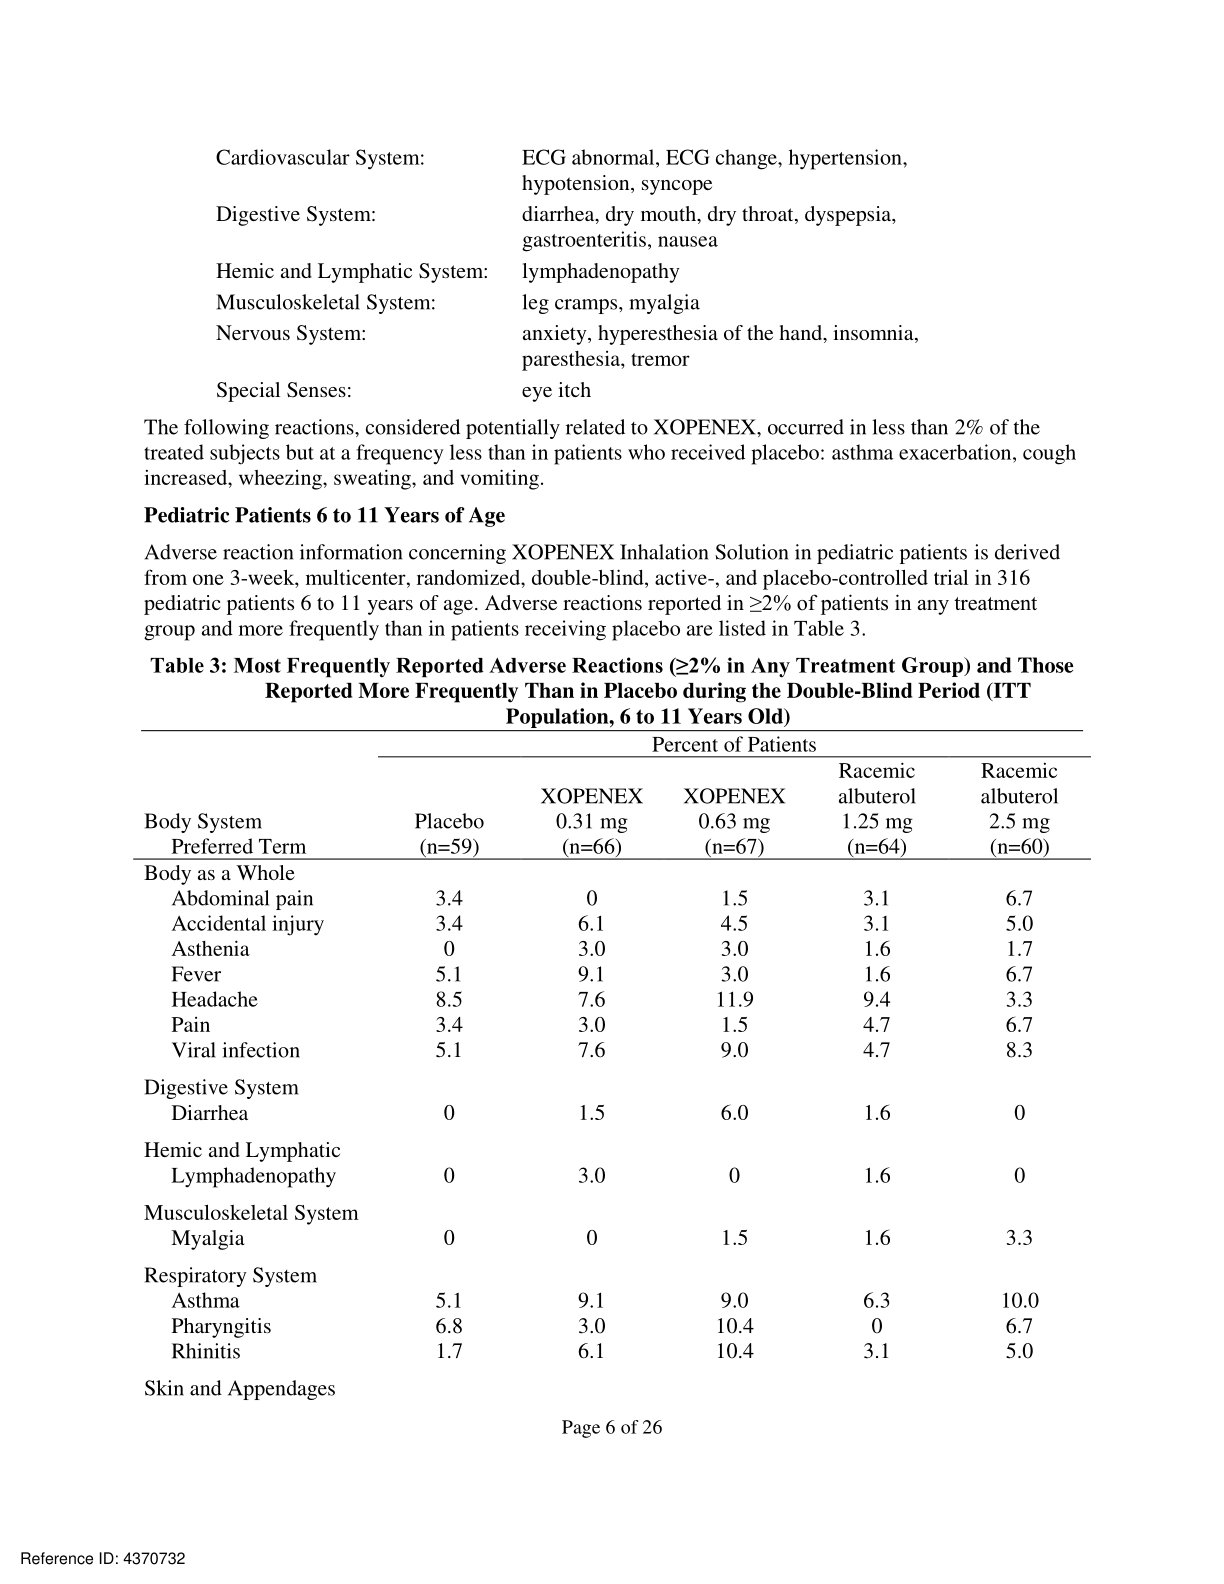nolines: (213, 144, 921, 404)
partial_lined: (132, 729, 1092, 1365)
